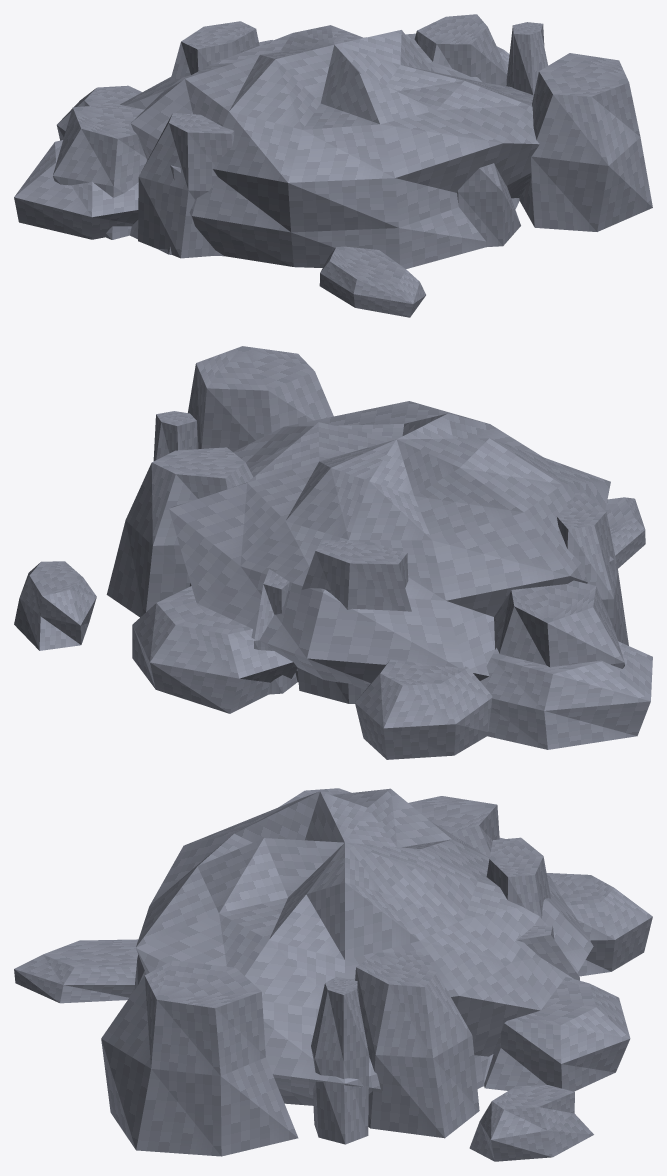
File: cave-and-crystal-networks-breakdown-pile-8e083f39.glb
The picture shows the model from 3 angles, top to bottom: view 1: azimuth 30°, elevation 25°; view 2: azimuth 150°, elevation 25°; view 3: azimuth 270°, elevation 25°; orthographic projection. The views are drawn at different scales.
Parts seen in each view (by area): view 1: breakdown-pile; view 2: breakdown-pile; view 3: breakdown-pile.
Boxes of the visible parts, x1,y1,x2,y2 form: breakdown-pile: (14, 14, 652, 317); breakdown-pile: (14, 346, 652, 759); breakdown-pile: (14, 788, 652, 1161).
Bounding box in the file's own units: 2.6 × 0.7748 × 2.36.
Materials: 1 (1 with a texture image).
